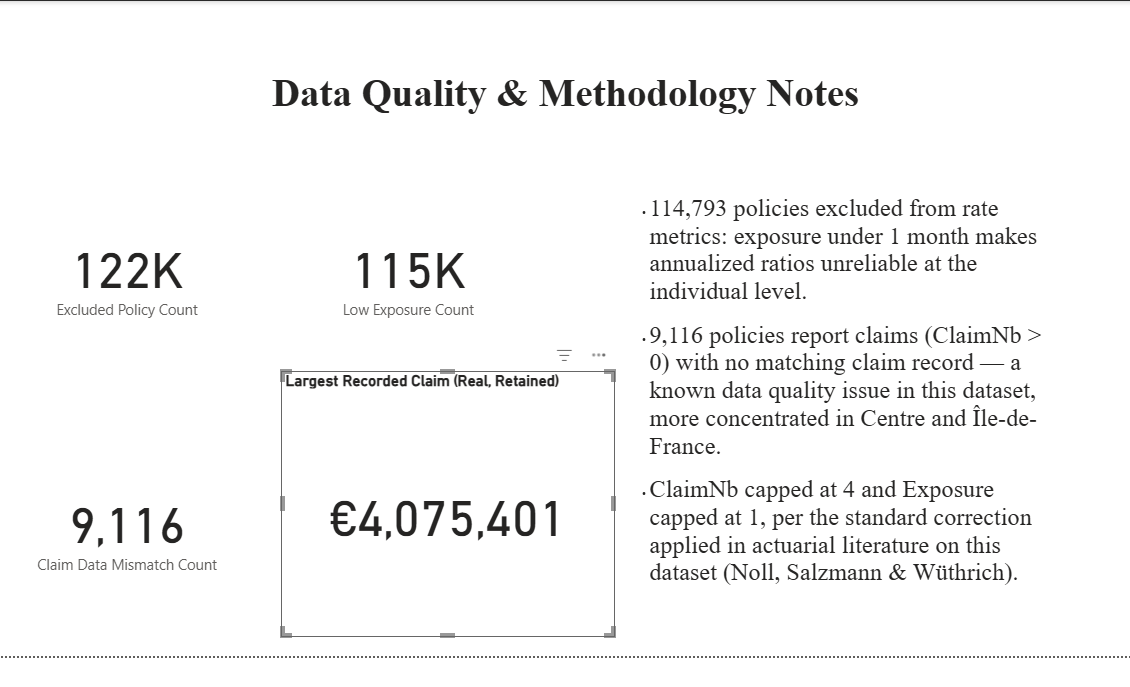

What the dashboard file says about the page in this screenshot:
{"tool":"powerbi","page":{"name":"Data Quality Page","canvas":[1280,720],"ordinal":4},"visuals":[{"type":"card","fields":{"Values":["policies_enriched.Excluded Policy Count"]},"box":[9.6,160.5,279.9,279.9],"z":0},{"type":"card","fields":{"Values":["policies_enriched.Low Exposure Count"]},"box":[318.4,160.5,279.9,279.9],"z":1000},{"type":"card","fields":{"Values":["policies_enriched.Claim Data Mismatch Count"]},"box":[9.6,440.5,279.9,279.9],"z":2000},{"type":"textbox","box":[699.8,207.2,476.2,491.3],"z":3000},{"type":"textbox","box":[303.3,71.4,672.4,89.2],"z":4000},{"type":"card","title":"Largest Recorded Claim (Real, Retained)","fields":{"Values":["policies_enriched.Largest Claim"]},"box":[318.4,406.2,366.4,292.3],"z":5000}]}

Visuals, with their boxes on the page's 1280x720 design canvas (x1, y1, x2, y2). These are canvas units, not pixel positions in the 1130x687 screenshot, which may show the page scaled, cropped or inside an application window:
card - policies_enriched.Excluded Policy Count: 10,160,290,440
card - policies_enriched.Low Exposure Count: 318,160,598,440
card - policies_enriched.Claim Data Mismatch Count: 10,440,290,720
textbox: 700,207,1176,698
textbox: 303,71,976,161
"Largest Recorded Claim (Real, Retained)" card: 318,406,685,698
